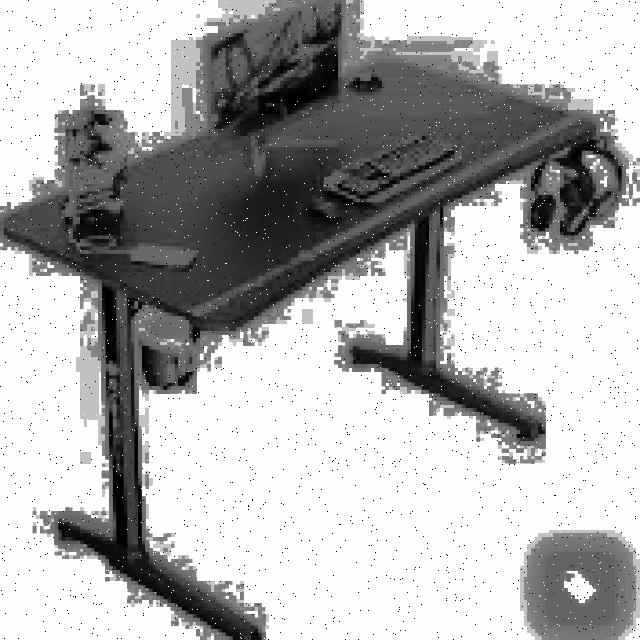table: (0, 51, 626, 639)
